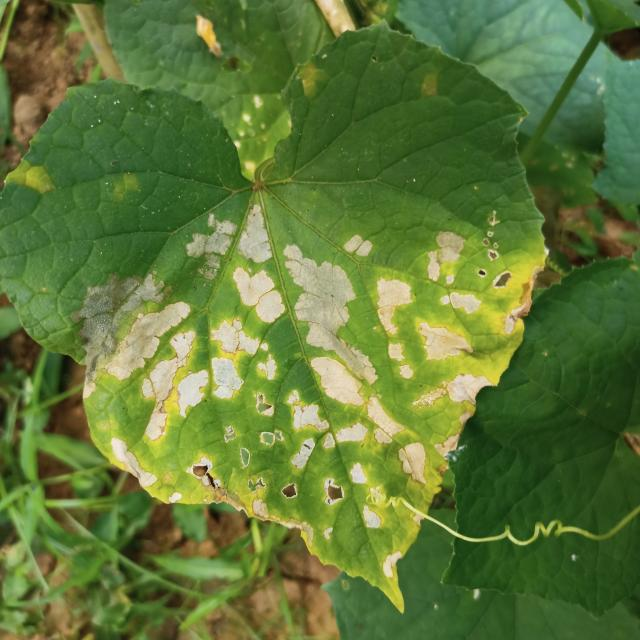disease_cucumber: (56, 209, 525, 568), (4, 152, 66, 204)
